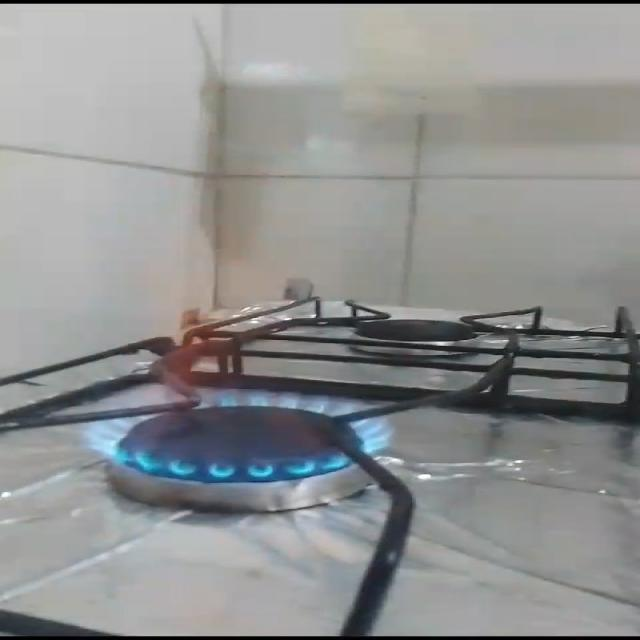fogo-ypXI: (78, 304, 402, 484)
